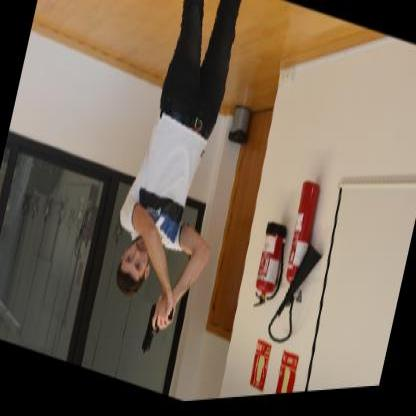pistol: (140, 301, 174, 363)
